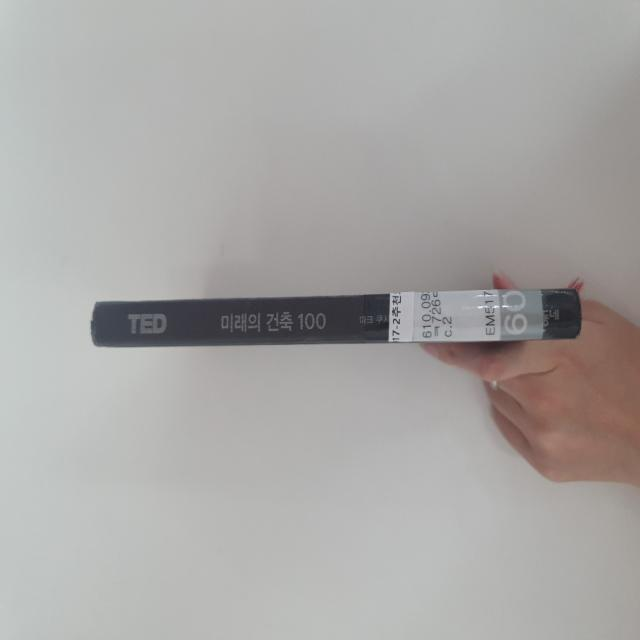Wornout: (565, 286, 586, 342), (89, 297, 107, 350)
